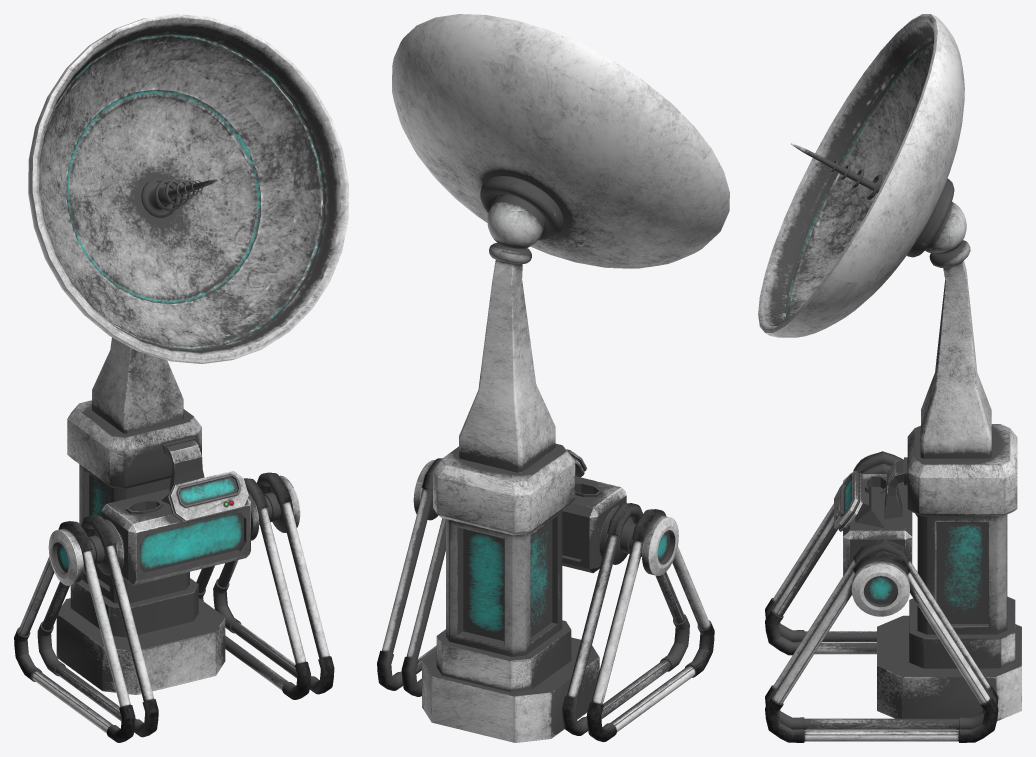
The model's file is radarF.fbx.
3 renders of one model, left to right at view 1: azimuth 30°, elevation 25°; view 2: azimuth 150°, elevation 25°; view 3: azimuth 270°, elevation 25°, orthographic. The views are drawn at different scales.
Visible parts, largest first — view 1: Sphere.004, Cube.001, Cylinder.001, Cube, Cylinder.002, Cylinder.008, tablo, Sphere.008; view 2: Sphere.004, Cube.001, Cylinder.001, Cylinder.002, Cube, Cylinder.008, Sphere.003; view 3: Cube.001, Sphere.004, Cylinder.001, Cylinder.002, Cube, Cylinder.008, tablo, Sphere.003.
Boxes of the visible parts, x1,y1,x2,y2 form: Sphere.004: (28, 14, 348, 363); Cube.001: (56, 337, 225, 694); Cylinder.001: (18, 486, 329, 733); Cube: (101, 440, 250, 585); Cylinder.002: (14, 472, 334, 742); Cylinder.008: (48, 475, 300, 585); tablo: (167, 470, 248, 522); Sphere.008: (141, 178, 203, 217); Sphere.004: (392, 14, 729, 268); Cube.001: (422, 243, 599, 742); Cylinder.001: (382, 488, 709, 731); Cylinder.002: (377, 458, 714, 742); Cube: (562, 476, 626, 573); Cylinder.008: (413, 460, 678, 575); Sphere.003: (487, 194, 545, 248); Cube.001: (877, 240, 1021, 721); Sphere.004: (758, 14, 964, 337); Cylinder.001: (773, 503, 990, 741); Cylinder.002: (765, 451, 998, 742); Cube: (843, 460, 912, 575); Cylinder.008: (851, 453, 909, 616); tablo: (834, 470, 862, 531); Sphere.003: (925, 201, 966, 254).
Size of the model in its own units: 1676 by 3388 by 1227.
